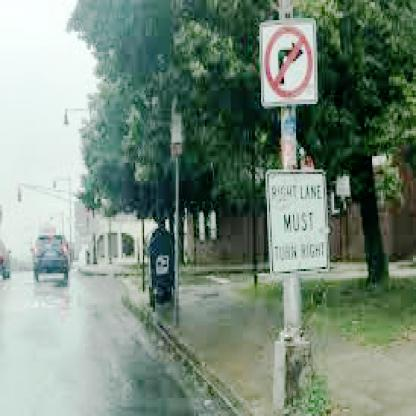No right turn: (258, 20, 315, 108)
